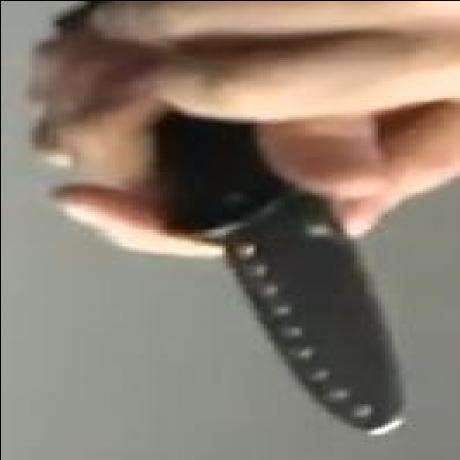1: (3, 1, 460, 258)
weapon: (198, 191, 409, 436)
